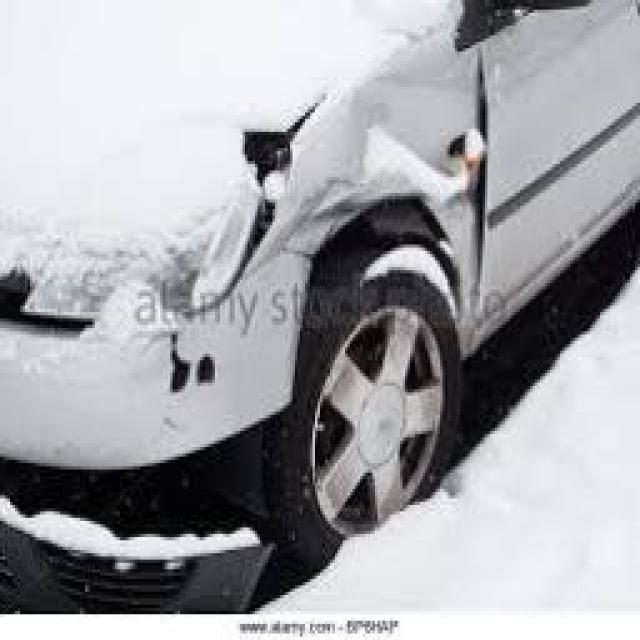Bumper: (0, 395, 319, 640)
Fender: (210, 8, 506, 326)
